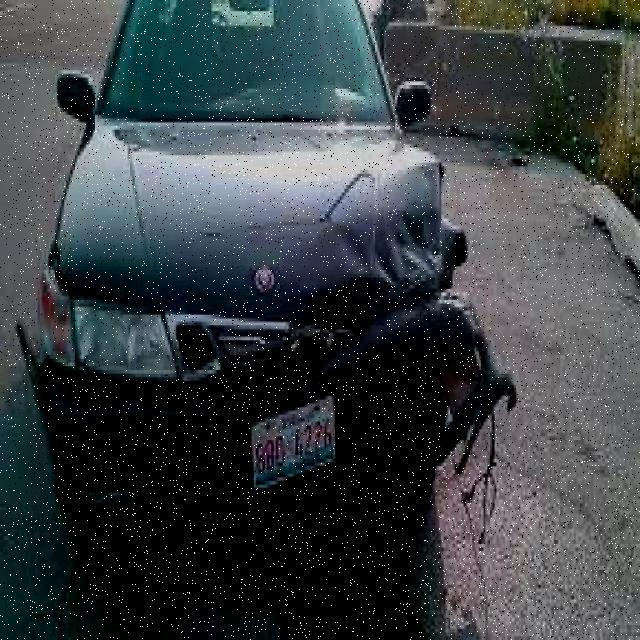car damage: (305, 125, 518, 540)
